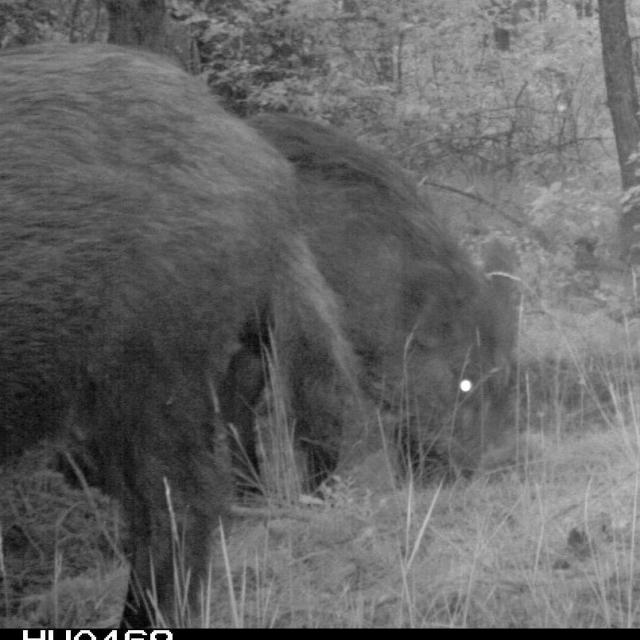pig: (0, 19, 315, 632), (249, 69, 547, 477)
